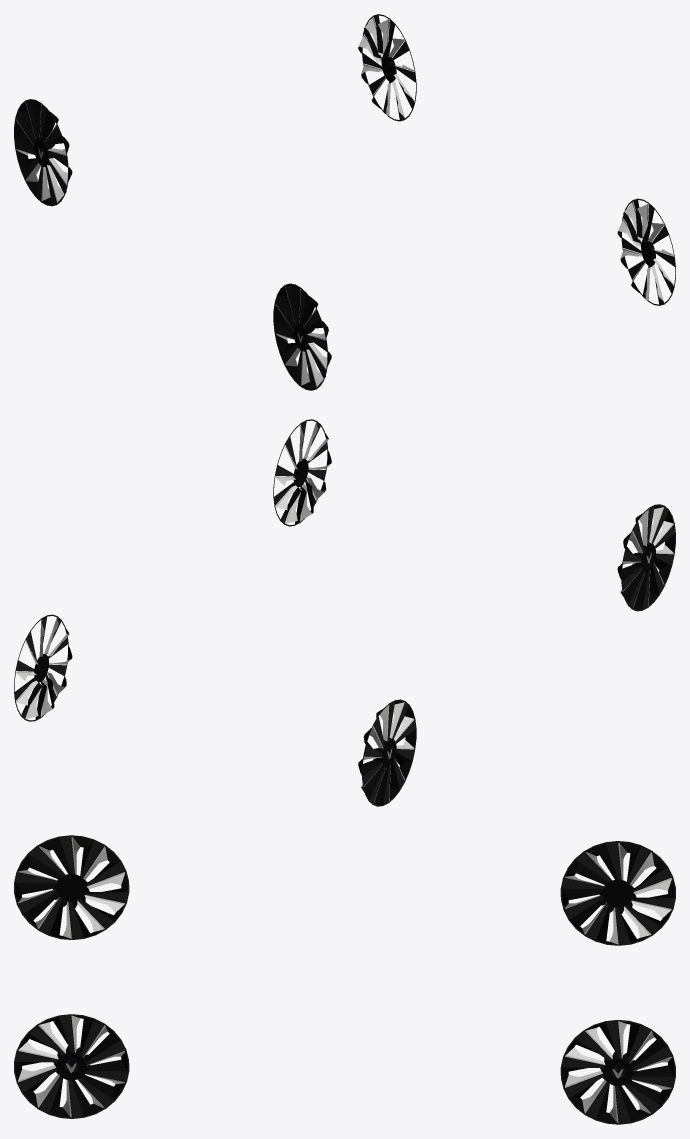
The picture shows the model from 3 angles, top to bottom: view 1: azimuth 30°, elevation 25°; view 2: azimuth 150°, elevation 25°; view 3: azimuth 270°, elevation 25°; orthographic projection. The views are drawn at different scales.
Parts seen in each view (by area): view 1: 2; view 2: 2; view 3: 2.
Boxes of the visible parts, left/top/right/bottom form: 2: left=14, top=14, right=675, bottom=390; 2: left=14, top=419, right=675, bottom=806; 2: left=14, top=835, right=675, bottom=1124.
Bounding box in the file's own units: 0.9731 × 0.2795 × 1.52.
4 materials, 1 textured.
